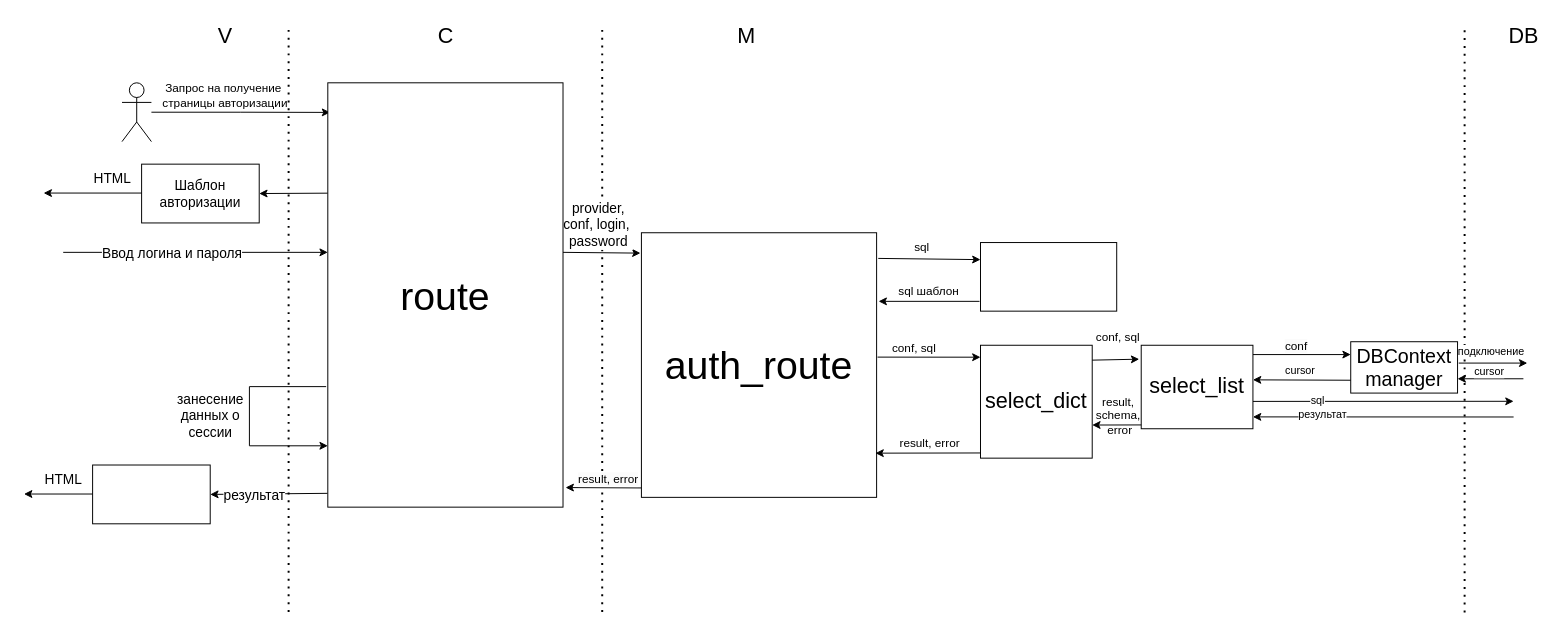
Some shapes in this 1565 by 631 pixel diagram are drawn without their labels. The shapes that lost their labels are listed below. From the top down, each one's centre as x and y in pixels, then its label:
At pixel 136 112: "User".
At pixel 1048 276: "SQLProvider".
At pixel 151 494: "redirect главного меню".
